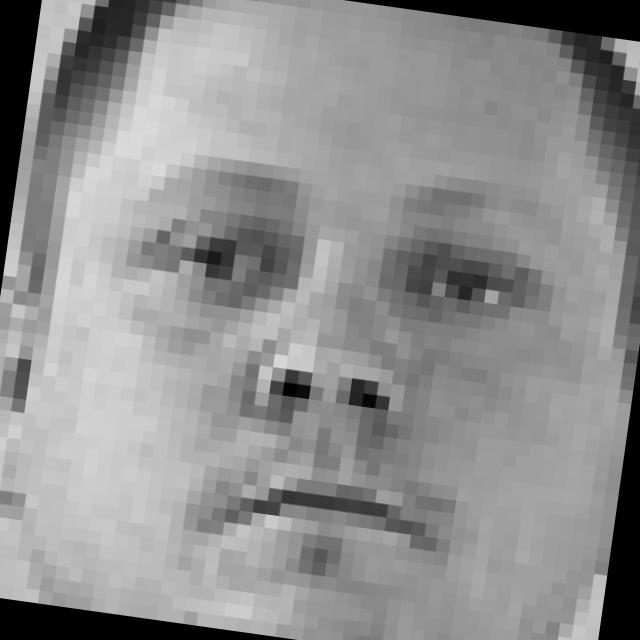neutral: (61, 124, 560, 602)
